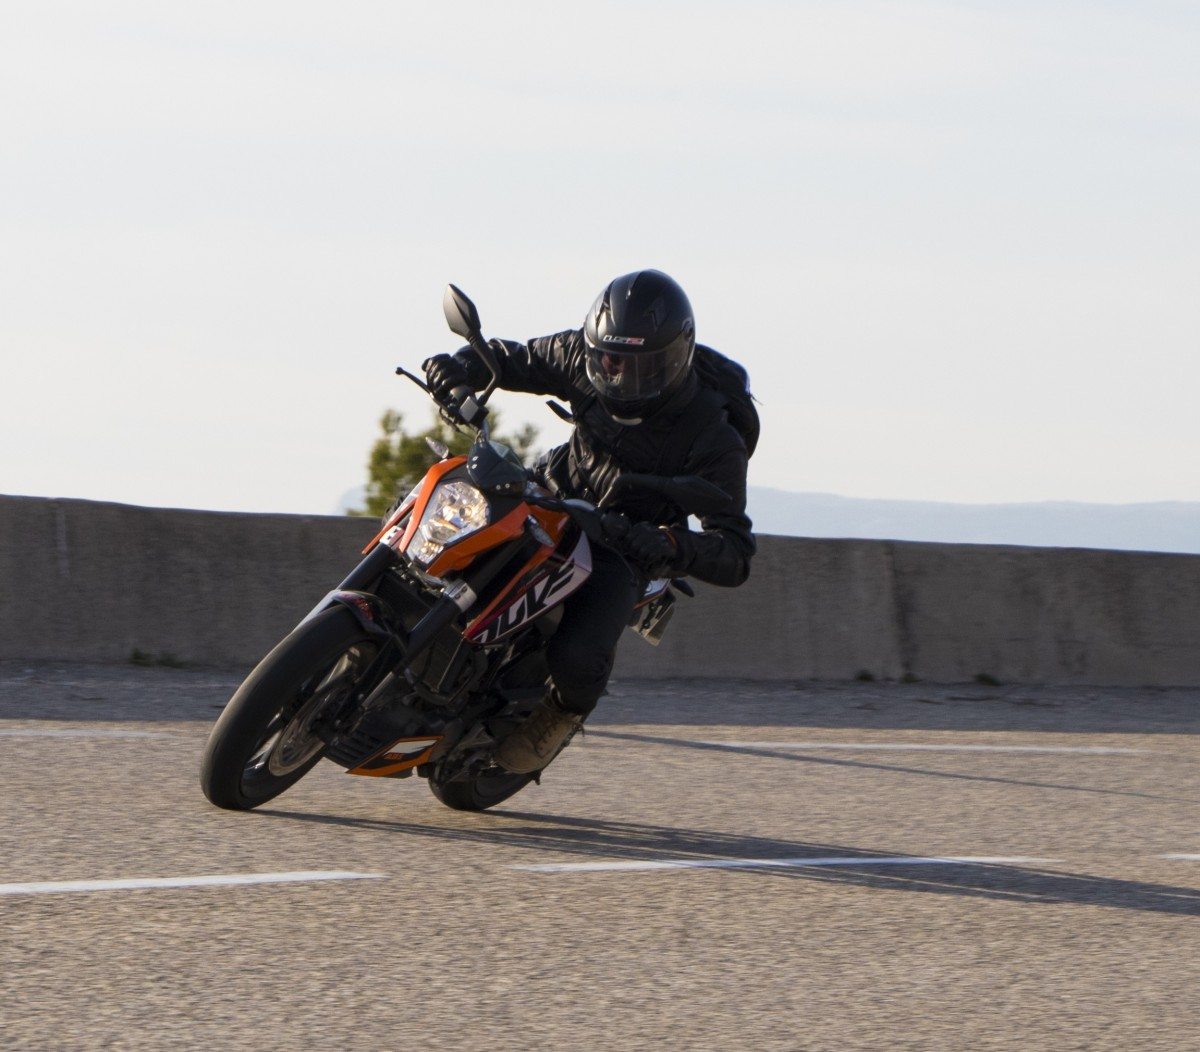helmet: (384, 222, 757, 790)
